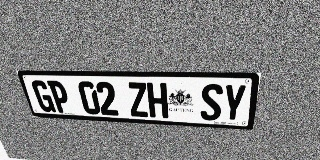0: (77, 81, 101, 115)
2: (95, 81, 119, 116)
G: (30, 80, 56, 112)
H: (146, 82, 168, 118)
P: (47, 81, 72, 113)
S: (200, 84, 223, 121)
Y: (221, 84, 247, 122)
Z: (126, 82, 149, 117)
